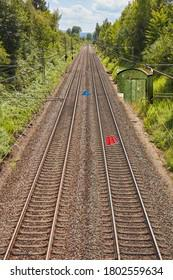Color_steel: (105, 129, 119, 151), (82, 89, 91, 97)
Green_house: (113, 67, 153, 108)
